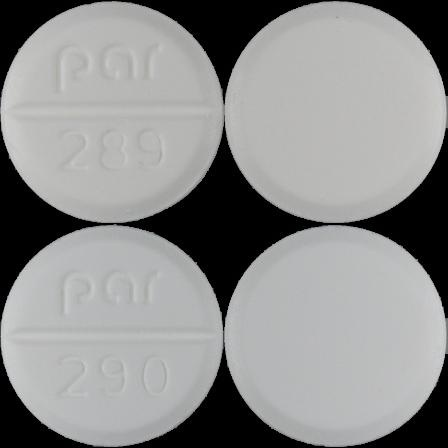49884-289: (0, 0, 224, 224)
